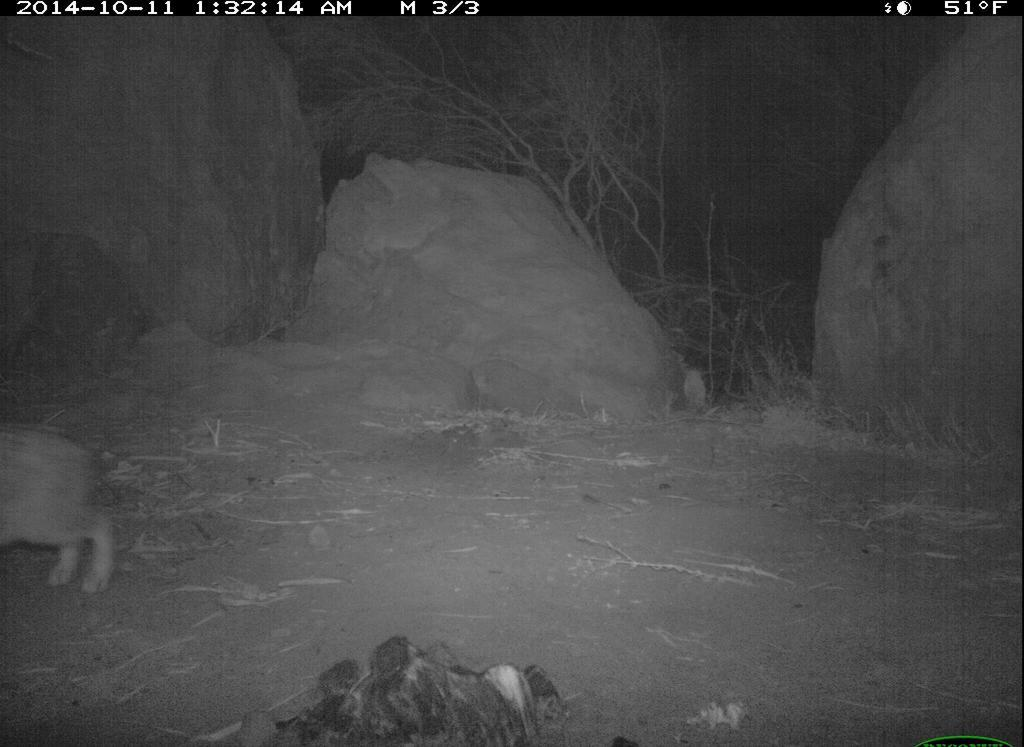rabbit: (2, 399, 146, 615)
